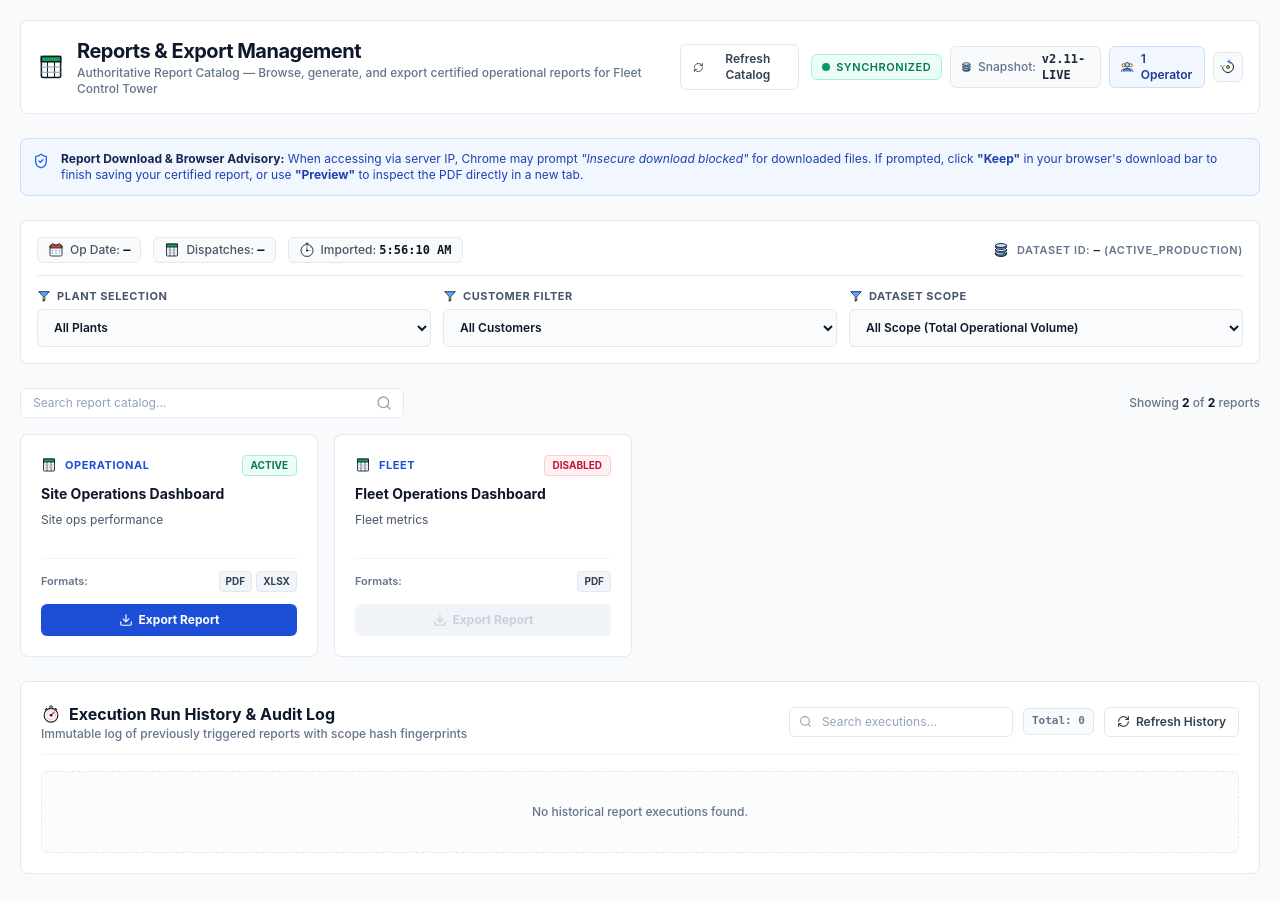
Scenario: WS6.1 - Reports Management Workspace & Catalog Suite › 3. opens ReportExportModal when Export button is clicked
This screenshot has width=1280, height=900.
Click the button with test id "export-btn-site_operations" at (169, 620), box [41,604,297,636]
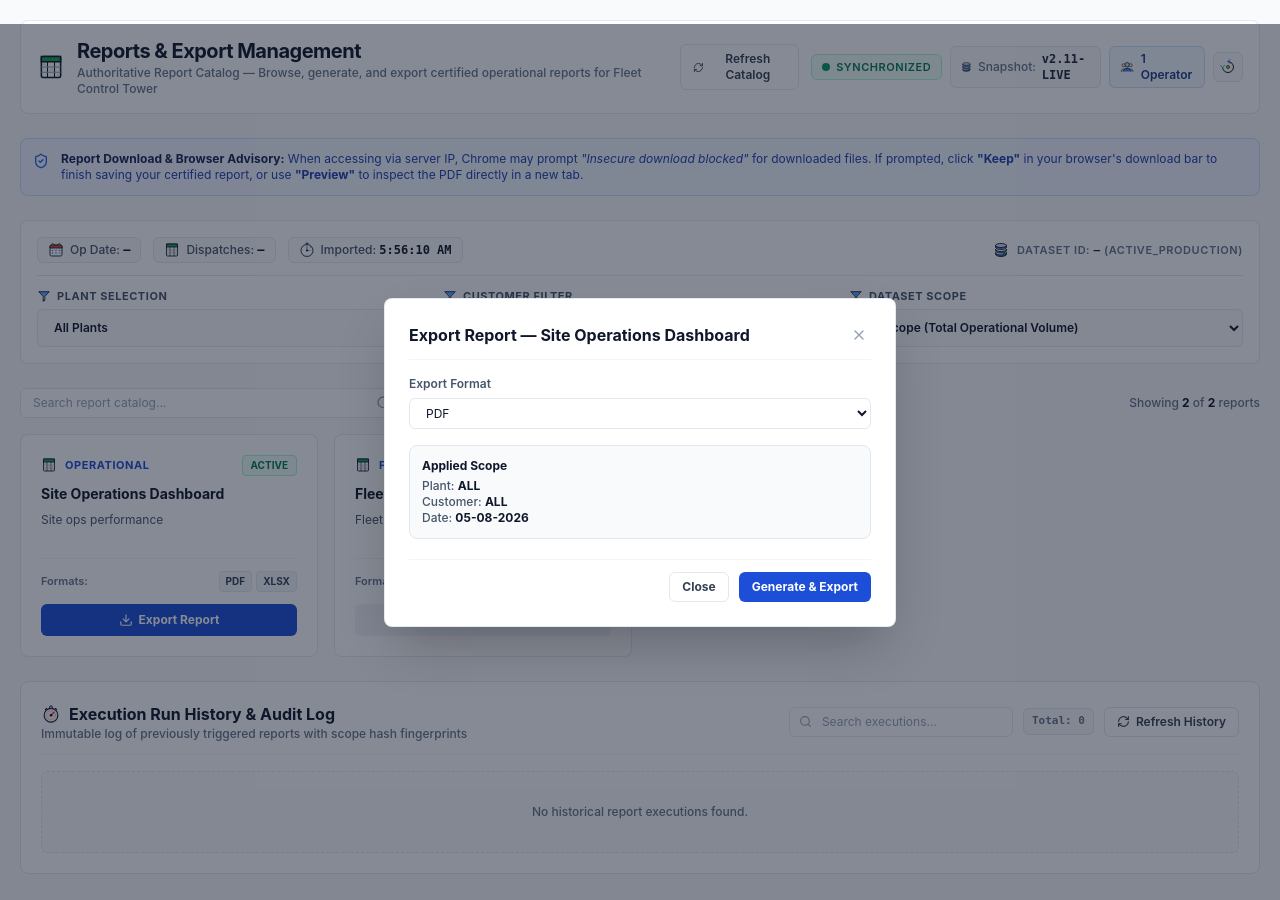
Now the heading "Export Report — Site Operations Dashboard" is shown, box [409,322,750,346]
